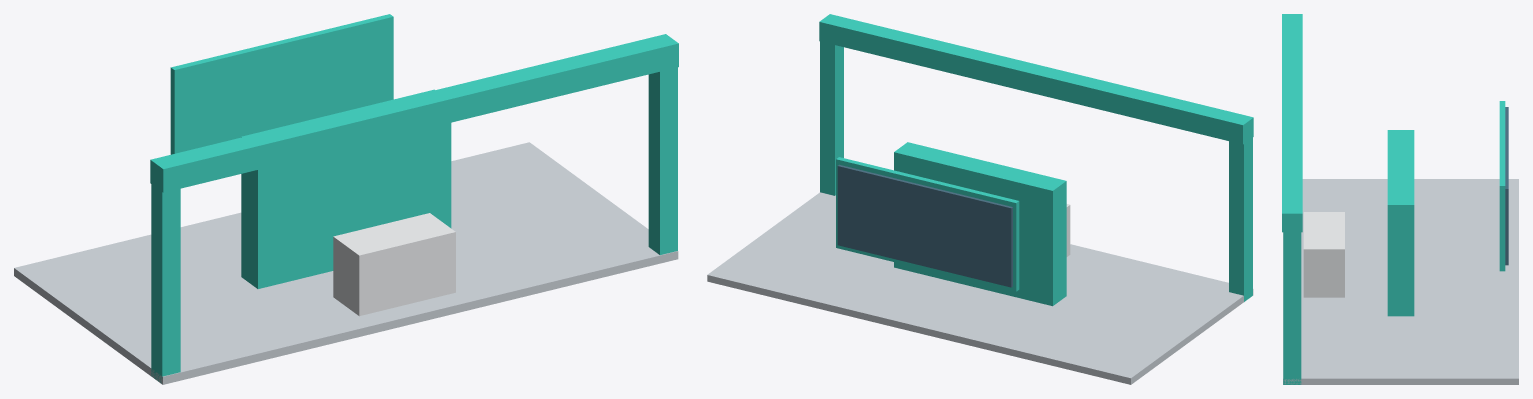
3 renders of one model, left to right at view 1: azimuth 30°, elevation 25°; view 2: azimuth 150°, elevation 25°; view 3: azimuth 270°, elevation 25°, orthographic. The views are drawn at different scales.
Parts seen in each view (by area): view 1: Exhibition Booth Concept; view 2: Exhibition Booth Concept; view 3: Exhibition Booth Concept.
Part boxes in pixels (left/top/right/bottom): Exhibition Booth Concept: left=14, top=14, right=678, bottom=384; Exhibition Booth Concept: left=707, top=14, right=1253, bottom=384; Exhibition Booth Concept: left=1282, top=14, right=1518, bottom=384.
Bounding box in the file's own units: 8 × 3.2 × 4.02.
